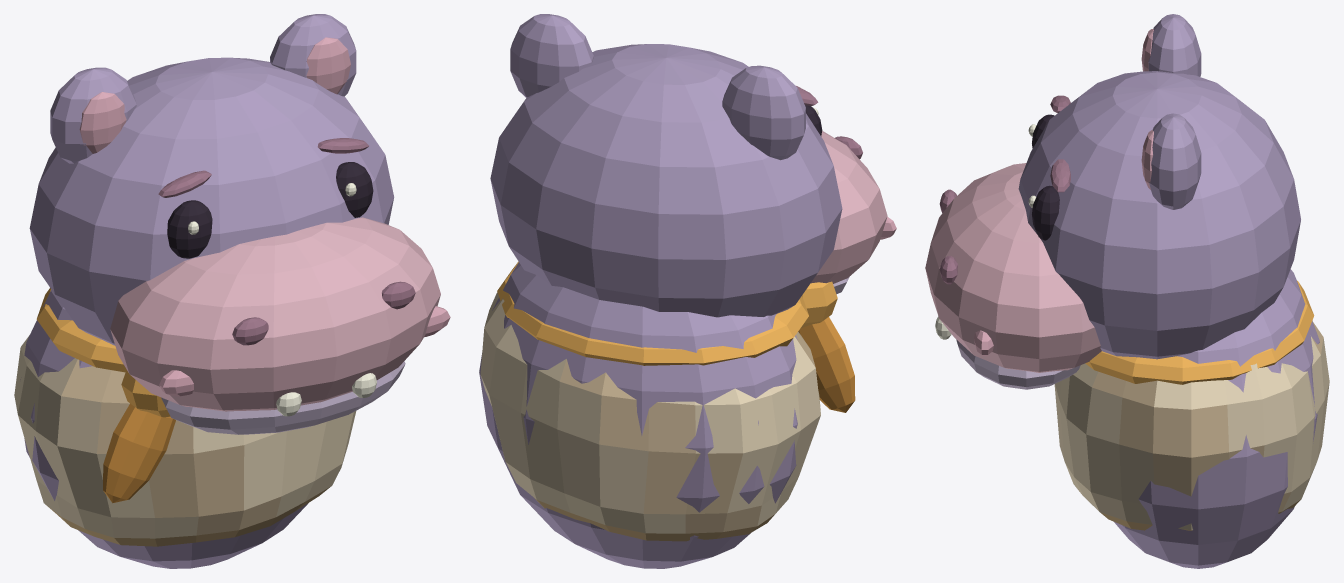
The model's file is hippo.glb.
3 views of the same model, side by side, from view 1: azimuth 30°, elevation 25°; view 2: azimuth 150°, elevation 25°; view 3: azimuth 270°, elevation 25° (orthographic). The views are drawn at different scales.
Parts seen in each view (by area): view 1: Kopf, Schnauze, Gefaltetes Leinen, Runder Körper, Unterlippe, Halstuchzipfel, Ohr -1, Ohr 1, Halstuch, Ohrmuschel -1, Auge -1, Ohrmuschel 1 (+7 smaller); view 2: Kopf, Gefaltetes Leinen, Runder Körper, Halstuch, Ohr -1, Schnauze, Ohr 1, Halstuchzipfel, Halstuchknoten; view 3: Kopf, Gefaltetes Leinen, Schnauze, Runder Körper, Halstuch, Ohr 1, Ohr -1, Unterlippe, Auge 1, Augenbraue 1.
Boxes of the visible parts, x1,y1,x2,y2 form: Kopf: (29, 57, 394, 345); Schnauze: (110, 217, 440, 411); Gefaltetes Leinen: (14, 335, 356, 546); Runder Körper: (20, 290, 308, 568); Unterlippe: (161, 361, 405, 434); Halstuchzipfel: (103, 403, 175, 503); Ohr -1: (50, 67, 136, 163); Ohr 1: (270, 14, 356, 96); Halstuch: (36, 288, 126, 372); Ohrmuschel -1: (79, 92, 126, 153); Auge -1: (167, 200, 212, 258); Ohrmuschel 1: (306, 37, 350, 94); Kopf: (490, 44, 842, 317); Gefaltetes Leinen: (480, 292, 820, 541); Runder Körper: (479, 262, 797, 568); Halstuch: (497, 261, 808, 365); Ohr -1: (722, 65, 805, 160); Schnauze: (811, 131, 887, 283); Ohr 1: (510, 14, 593, 97); Halstuchzipfel: (798, 317, 855, 412); Halstuchknoten: (800, 281, 837, 328); Kopf: (1018, 71, 1300, 359); Gefaltetes Leinen: (1054, 321, 1329, 530); Schnauze: (925, 163, 1101, 372); Runder Körper: (1114, 269, 1319, 568); Halstuch: (1085, 280, 1314, 384); Ohr 1: (1149, 113, 1201, 209); Ohr -1: (1148, 14, 1201, 76); Unterlippe: (956, 339, 1080, 389); Auge 1: (1032, 185, 1059, 240); Augenbraue 1: (1050, 159, 1070, 192).
Bounding box in the file's own units: 0.86 × 1.31 × 0.9834.
